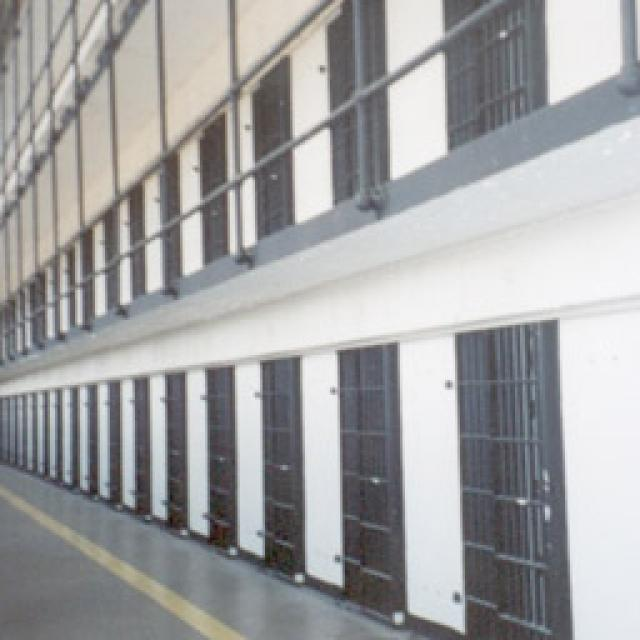bars: (452, 318, 568, 638), (335, 342, 402, 622), (260, 355, 305, 580), (248, 52, 292, 238), (205, 362, 232, 550), (195, 110, 225, 262), (162, 370, 182, 528), (132, 375, 150, 512)
floor -X: (0, 459, 425, 635)
